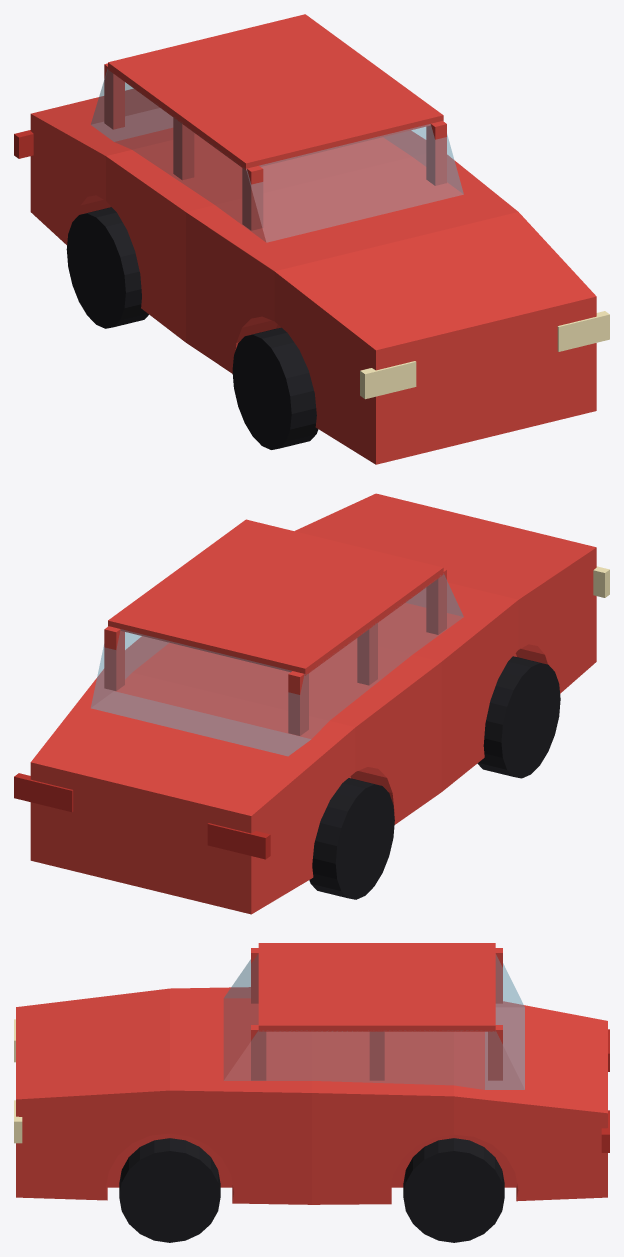
File: compact.glb
The picture shows the model from 3 angles, top to bottom: view 1: azimuth 30°, elevation 25°; view 2: azimuth 150°, elevation 25°; view 3: azimuth 270°, elevation 25°; orthographic projection. The views are drawn at different scales.
Parts seen in each view (by area): view 1: body, cabin_roof, cabin_glass, wheel_FR_tyre, wheel_RR_tyre, head_L, head_R, pillar_front_L, pillar_front_R, pillar_mid_L, pillar_rear_L; view 2: body, cabin_roof, cabin_glass, wheel_RR_tyre, wheel_FR_tyre, tail_L, tail_R, pillar_rear_L, pillar_rear_R, pillar_front_L, pillar_mid_L; view 3: body, cabin_roof, cabin_glass, wheel_FL_tyre, wheel_RL_tyre, pillar_front_R, pillar_mid_R, pillar_rear_R, pillar_front_L, pillar_rear_L.
Boxes of the visible parts, <box> form: body: <box>30,88,596,464</box>; cabin_roof: <box>108,14,443,170</box>; cabin_glass: <box>91,68,463,242</box>; wheel_FR_tyre: <box>232,327,318,449</box>; wheel_RR_tyre: <box>66,207,148,328</box>; head_L: <box>360,361,416,399</box>; head_R: <box>557,311,609,351</box>; pillar_front_L: <box>242,165,263,230</box>; pillar_front_R: <box>426,121,446,185</box>; pillar_mid_L: <box>173,117,194,180</box>; pillar_rear_L: <box>104,63,124,129</box>; body: <box>30,493,596,914</box>; cabin_roof: <box>108,519,443,675</box>; cabin_glass: <box>91,573,463,756</box>; wheel_RR_tyre: <box>309,778,394,899</box>; wheel_FR_tyre: <box>477,656,560,778</box>; tail_L: <box>207,823,270,859</box>; tail_R: <box>14,773,73,812</box>; pillar_rear_L: <box>288,671,308,735</box>; pillar_rear_R: <box>104,626,124,690</box>; pillar_front_L: <box>426,569,446,634</box>; pillar_mid_L: <box>357,623,377,685</box>; body: <box>16,987,607,1204</box>; cabin_roof: <box>258,943,495,1031</box>; cabin_glass: <box>224,954,524,1089</box>; wheel_FL_tyre: <box>119,1138,220,1242</box>; wheel_RL_tyre: <box>403,1138,504,1242</box>; pillar_front_R: <box>251,1025,266,1080</box>; pillar_mid_R: <box>369,1031,384,1080</box>; pillar_rear_R: <box>488,1025,502,1080</box>; pillar_front_L: <box>251,948,258,1003</box>; pillar_rear_L: <box>495,948,502,1003</box>.
Size of the model in its own units: 1.57 by 1.32 by 3.52.
